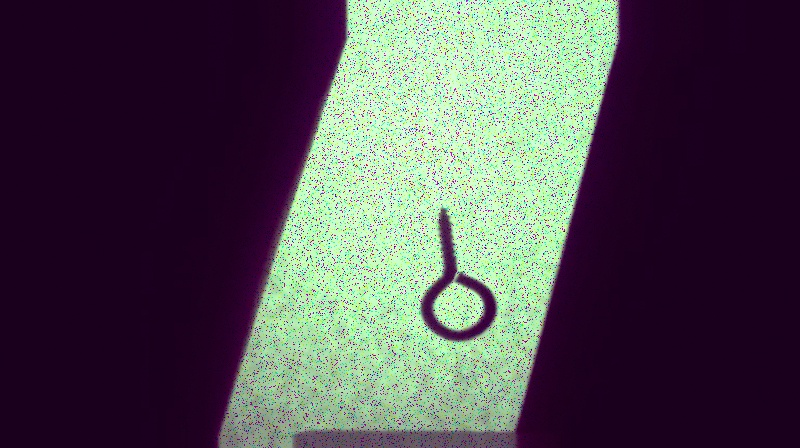O001: (416, 204, 500, 344)
